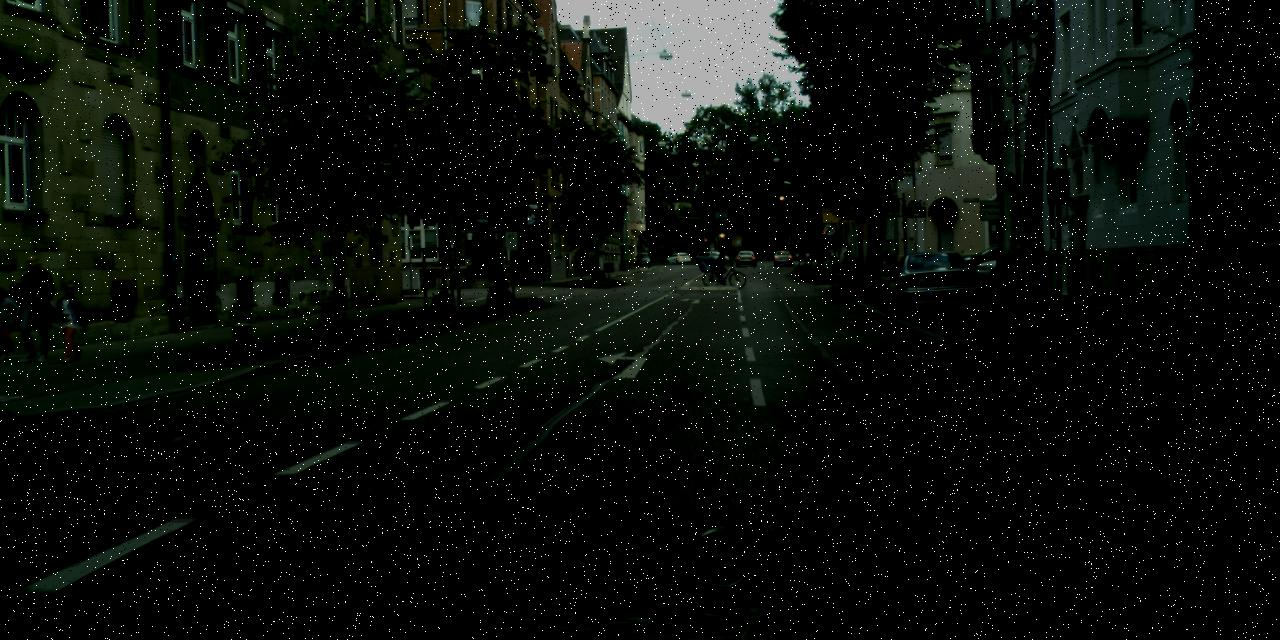ped: (12, 254, 55, 360), (56, 282, 88, 359), (714, 248, 728, 282), (841, 242, 854, 277), (820, 244, 826, 260), (636, 250, 641, 266)
